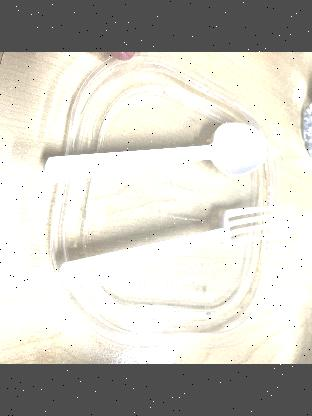Others: (51, 186, 288, 302), (32, 118, 268, 198)
